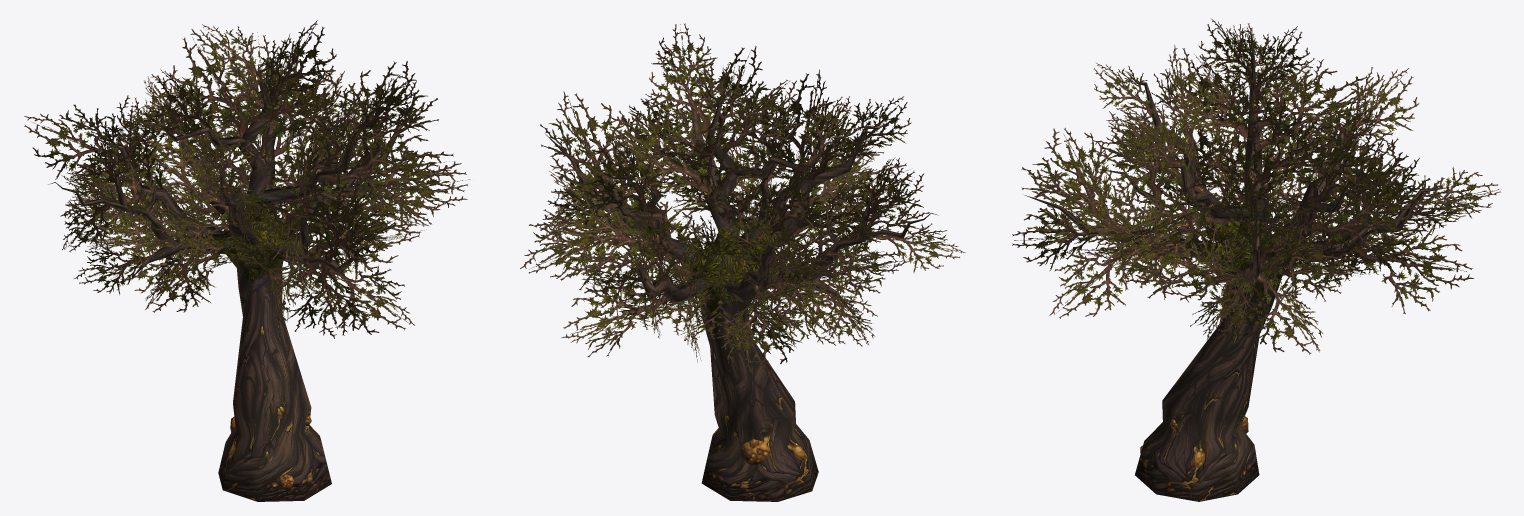
File: sholazarhugecanopy_tree_scourge_01.obj
3 renders of one model, left to right at view 1: azimuth 30°, elevation 25°; view 2: azimuth 150°, elevation 25°; view 3: azimuth 270°, elevation 25°, orthographic. The views are drawn at different scales.
Visible parts, largest first — view 1: Geoset1, Geoset0; view 2: Geoset1, Geoset0, Geoset2; view 3: Geoset1, Geoset0.
Boxes of the visible parts, x1,y1,x2,y2 form: Geoset1: (24, 20, 470, 338); Geoset0: (48, 53, 425, 501); Geoset1: (520, 23, 965, 372); Geoset0: (545, 80, 937, 501); Geoset2: (741, 439, 769, 465); Geoset1: (1012, 18, 1501, 354); Geoset0: (1024, 42, 1450, 501).
Size of the model in its own units: 105 by 103 by 107.
Materials: 3 (3 with a texture image).
